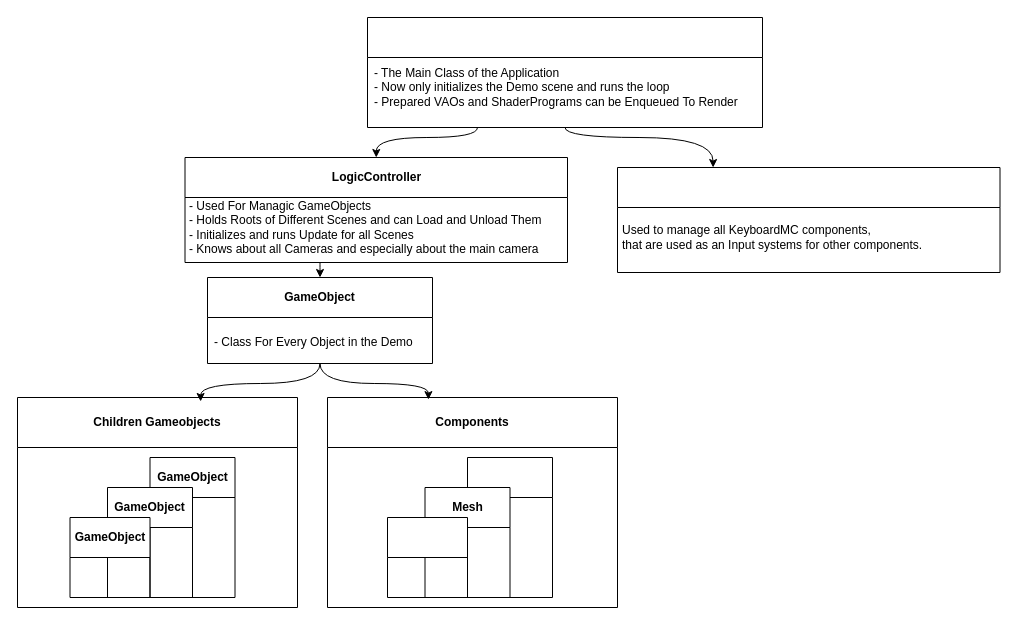
Some shapes in this 1018 by 625 pixel diagram are drawn without their labels. The shapes that lost their labels are listed below. From the top down, each one's box as (x1, y1, x2, y2) in pixels, then its label:
(366, 16, 762, 128): GameController
(616, 166, 1000, 272): KeyboardManager
(466, 456, 552, 598): Transform
(386, 516, 468, 598): Backflipper
